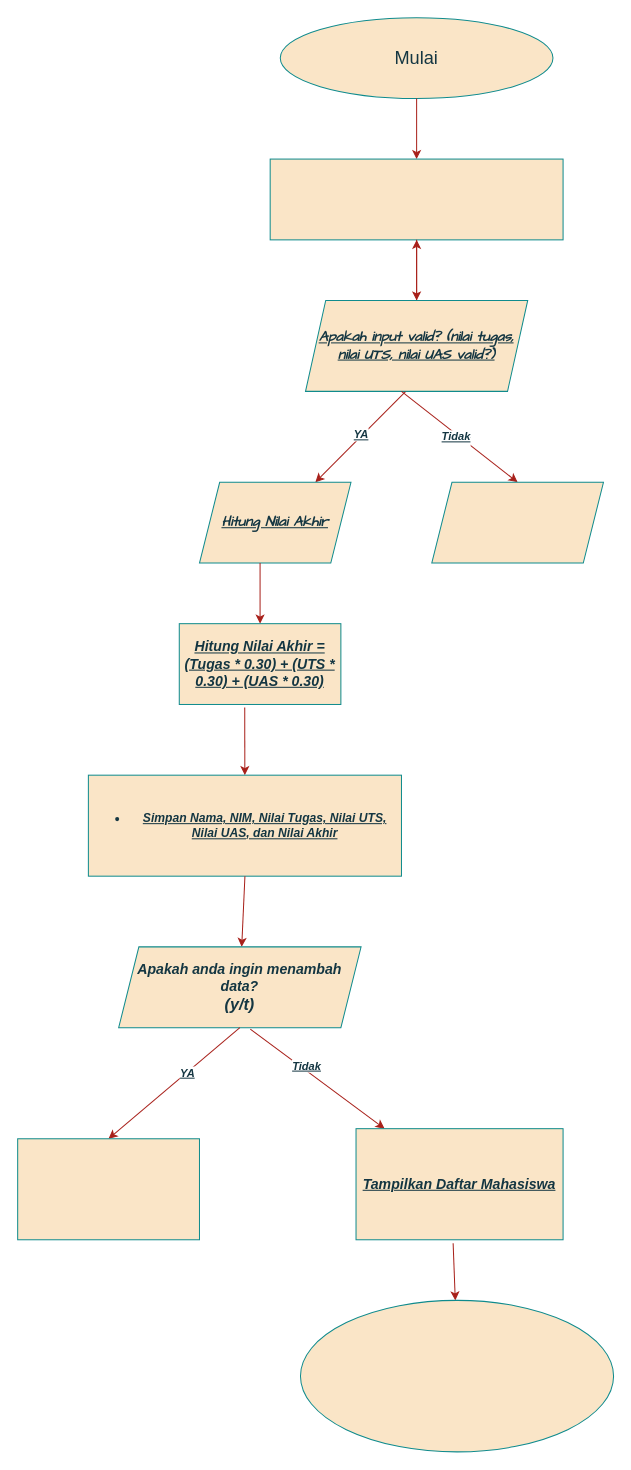
Some shapes in this 631 by 1470 pixel diagram are drawn without their labels. The shapes that lost their labels are listed below. From the top down, each one's centre as x and y in pixels, then its label:
At (x=416, y=199): "Input Nama,NIM,Nilai Tugas, Nilai UTS, Nilai UAS".
At (x=517, y=522): "Tampilkan pesan kesalahan dan ulangi input".
At (x=108, y=1189): "Kembali input data".
At (x=456, y=1375): "Selesai".
